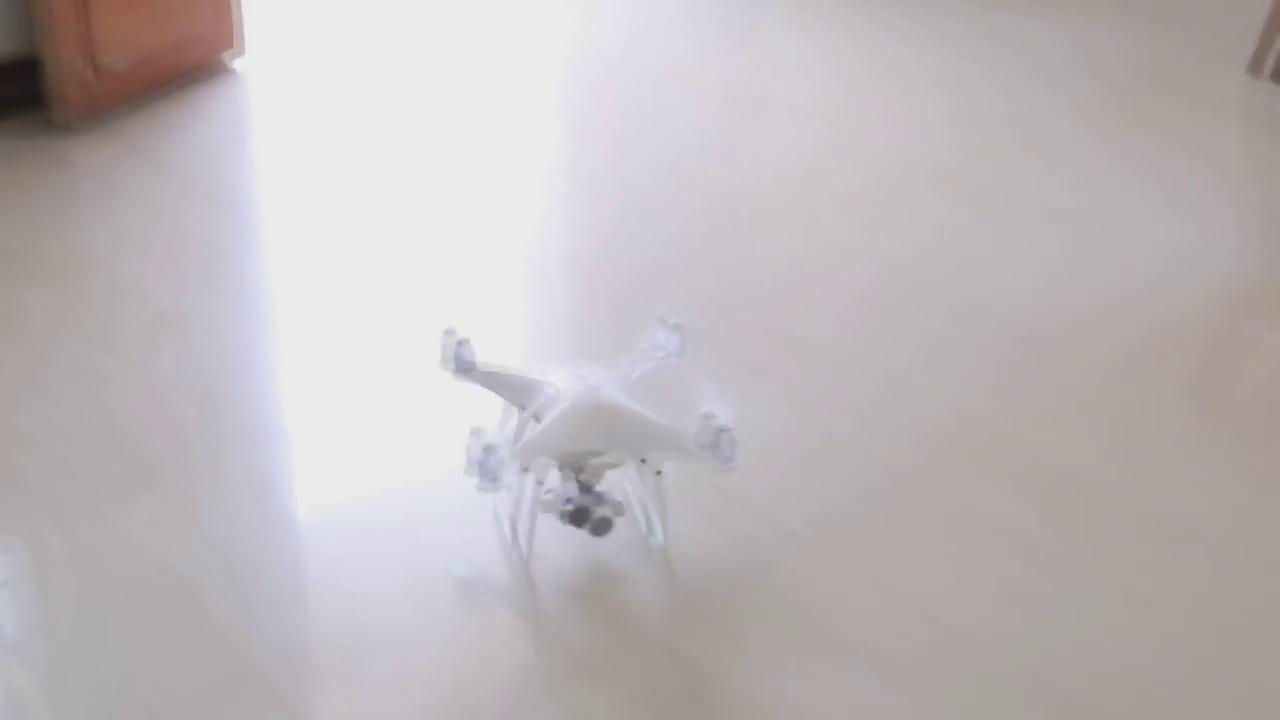drone: (422, 299, 758, 500)
